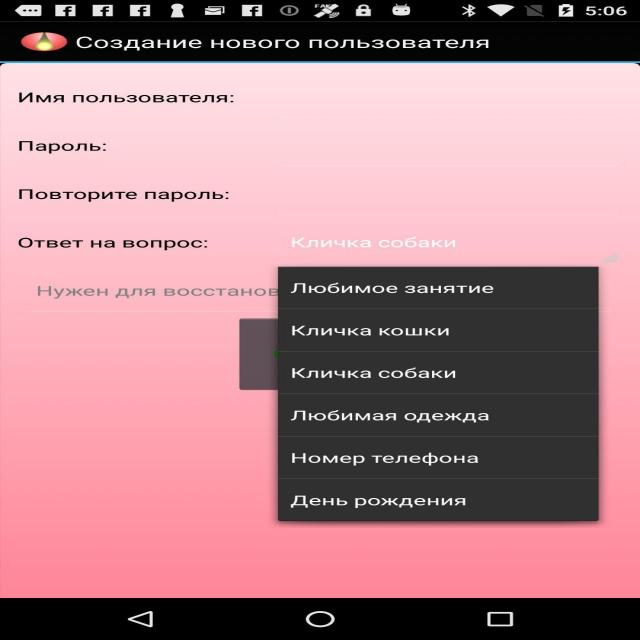text: (284, 266, 536, 526), (8, 82, 297, 303)
